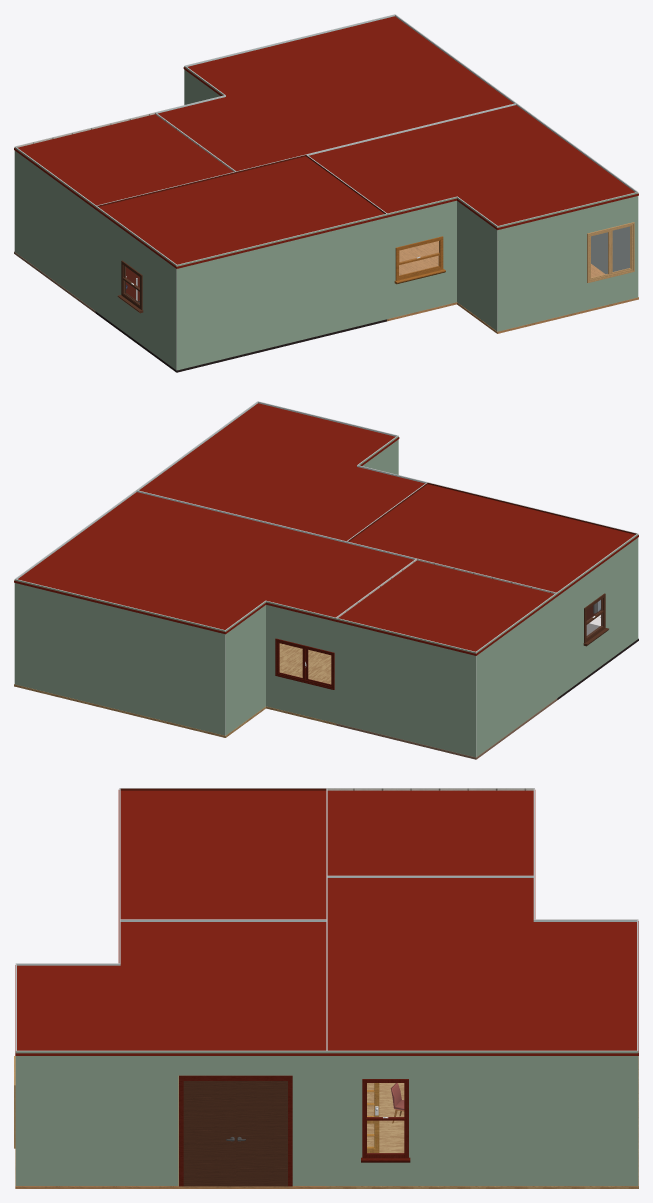
Rendered from ProcTHOR-Train-148.glb.
3 renders of one model, top to bottom at view 1: azimuth 30°, elevation 25°; view 2: azimuth 150°, elevation 25°; view 3: azimuth 270°, elevation 25°, orthographic. The views are drawn at different scales.
Visible parts, largest first — view 1: Ceiling#room|4|c, Ceiling#room|6|c, WallInside#wall|exterior|5.44|10.88|10.88|10.88, Ceiling#room|7|c, WallInside#wall|exterior|0.00|12.70|3.63|12.70, Ceiling#room|5|c, WallInside#wall|exterior|10.88|3.63|10.88|7.25, WallInside#wall|exterior|10.88|7.25|10.88|10.88, WallInside#wall|exterior|3.63|10.88|5.44|10.88, WallInside#wall|exterior|3.63|10.88|3.63|12.70, Floor#room|6|f, WallInside#wall|6|0.00|7.25|0.00|12.70 (+6 smaller); view 2: Ceiling#room|4|c, WallInside#wall|exterior|0.00|1.81|5.44|1.81, Ceiling#room|6|c, Ceiling#room|7|c, WallInside#wall|exterior|7.25|3.63|10.88|3.63, Ceiling#room|5|c, WallInside#wall|exterior|10.88|3.63|10.88|7.25, WallInside#wall|exterior|10.88|7.25|10.88|10.88, WallInside#wall|exterior|5.44|3.63|7.25|3.63, WallInside#wall|exterior|5.44|1.81|5.44|3.63, Floor#room|4|f, Window_Slider_60x36 (+4 smaller); view 3: Ceiling#room|4|c, WallInside#wall|exterior|0.00|1.81|0.00|7.25, Ceiling#room|6|c, WallInside#wall|exterior|0.00|7.25|0.00|12.70, Ceiling#room|7|c, Ceiling#room|5|c, Doorway_Door_1b, Doorway_Door_1a, Floor#room|4|f, Doorway_Double_1, Window_Hung_32x60, Floor#room|6|f (+3 smaller).
Part boxes in pixels (x1,y1,x2,y2): Ceiling#room|4|c: [158, 16, 514, 171]; Ceiling#room|6|c: [306, 105, 638, 229]; WallInside#wall|exterior|5.44|10.88|10.88|10.88: [177, 214, 387, 370]; Ceiling#room|7|c: [95, 156, 386, 268]; WallInside#wall|exterior|0.00|12.70|3.63|12.70: [497, 192, 638, 331]; Ceiling#room|5|c: [14, 114, 233, 208]; WallInside#wall|exterior|10.88|3.63|10.88|7.25: [14, 147, 95, 310]; WallInside#wall|exterior|10.88|7.25|10.88|10.88: [95, 206, 176, 370]; WallInside#wall|exterior|3.63|10.88|5.44|10.88: [387, 197, 456, 318]; WallInside#wall|exterior|3.63|10.88|3.63|12.70: [457, 197, 497, 331]; Floor#room|6|f: [387, 241, 638, 333]; WallInside#wall|6|0.00|7.25|0.00|12.70: [516, 103, 636, 273]; Ceiling#room|4|c: [14, 492, 415, 634]; WallInside#wall|exterior|0.00|1.81|5.44|1.81: [14, 579, 225, 735]; Ceiling#room|6|c: [139, 403, 427, 542]; Ceiling#room|7|c: [349, 484, 638, 596]; WallInside#wall|exterior|7.25|3.63|10.88|3.63: [335, 618, 475, 757]; Ceiling#room|5|c: [334, 560, 557, 655]; WallInside#wall|exterior|10.88|3.63|10.88|7.25: [476, 593, 557, 757]; WallInside#wall|exterior|10.88|7.25|10.88|10.88: [557, 534, 638, 697]; WallInside#wall|exterior|5.44|3.63|7.25|3.63: [266, 601, 335, 723]; WallInside#wall|exterior|5.44|1.81|5.44|3.63: [225, 601, 265, 735]; Floor#room|4|f: [14, 643, 336, 737]; Window_Slider_60x36: [275, 638, 334, 689]; Ceiling#room|4|c: [326, 878, 638, 1055]; WallInside#wall|exterior|0.00|1.81|0.00|7.25: [326, 1051, 638, 1185]; Ceiling#room|6|c: [15, 921, 327, 1055]; WallInside#wall|exterior|0.00|7.25|0.00|12.70: [15, 1051, 327, 1185]; Ceiling#room|7|c: [118, 790, 328, 921]; Ceiling#room|5|c: [326, 790, 535, 877]; Doorway_Door_1b: [183, 1081, 235, 1186]; Doorway_Door_1a: [236, 1081, 287, 1186]; Floor#room|4|f: [326, 1056, 638, 1188]; Doorway_Double_1: [179, 1075, 292, 1186]; Window_Hung_32x60: [361, 1079, 410, 1162]; Floor#room|6|f: [15, 1076, 328, 1188].
Size of what is drawn, in the model's own units: 11.12 by 2.66 by 10.94.
310 materials, 117 textured.
